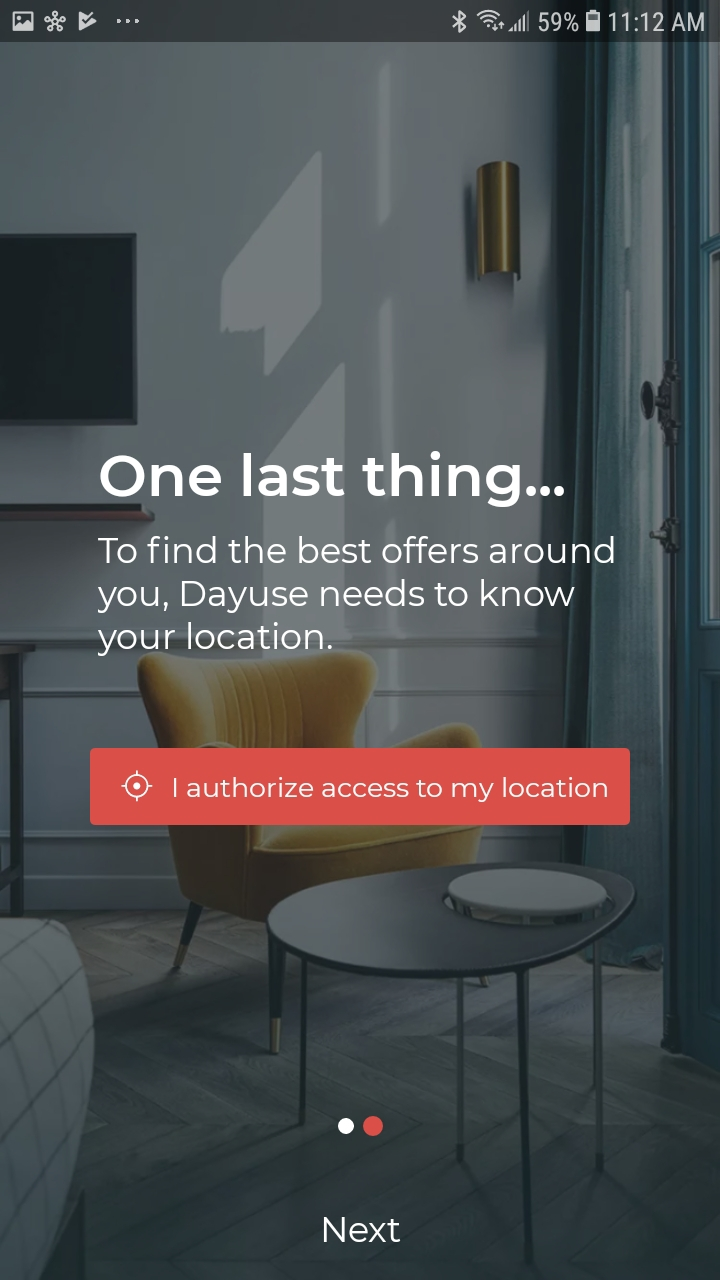BackgroundImage: (1, 44, 720, 1280)
PageIndicator: (337, 1114, 385, 1137)
Text: (98, 536, 615, 658), (99, 451, 565, 509), (323, 1216, 401, 1243)
TextButton: (90, 747, 631, 826)
UpperTaskBar: (1, 1, 719, 43)
